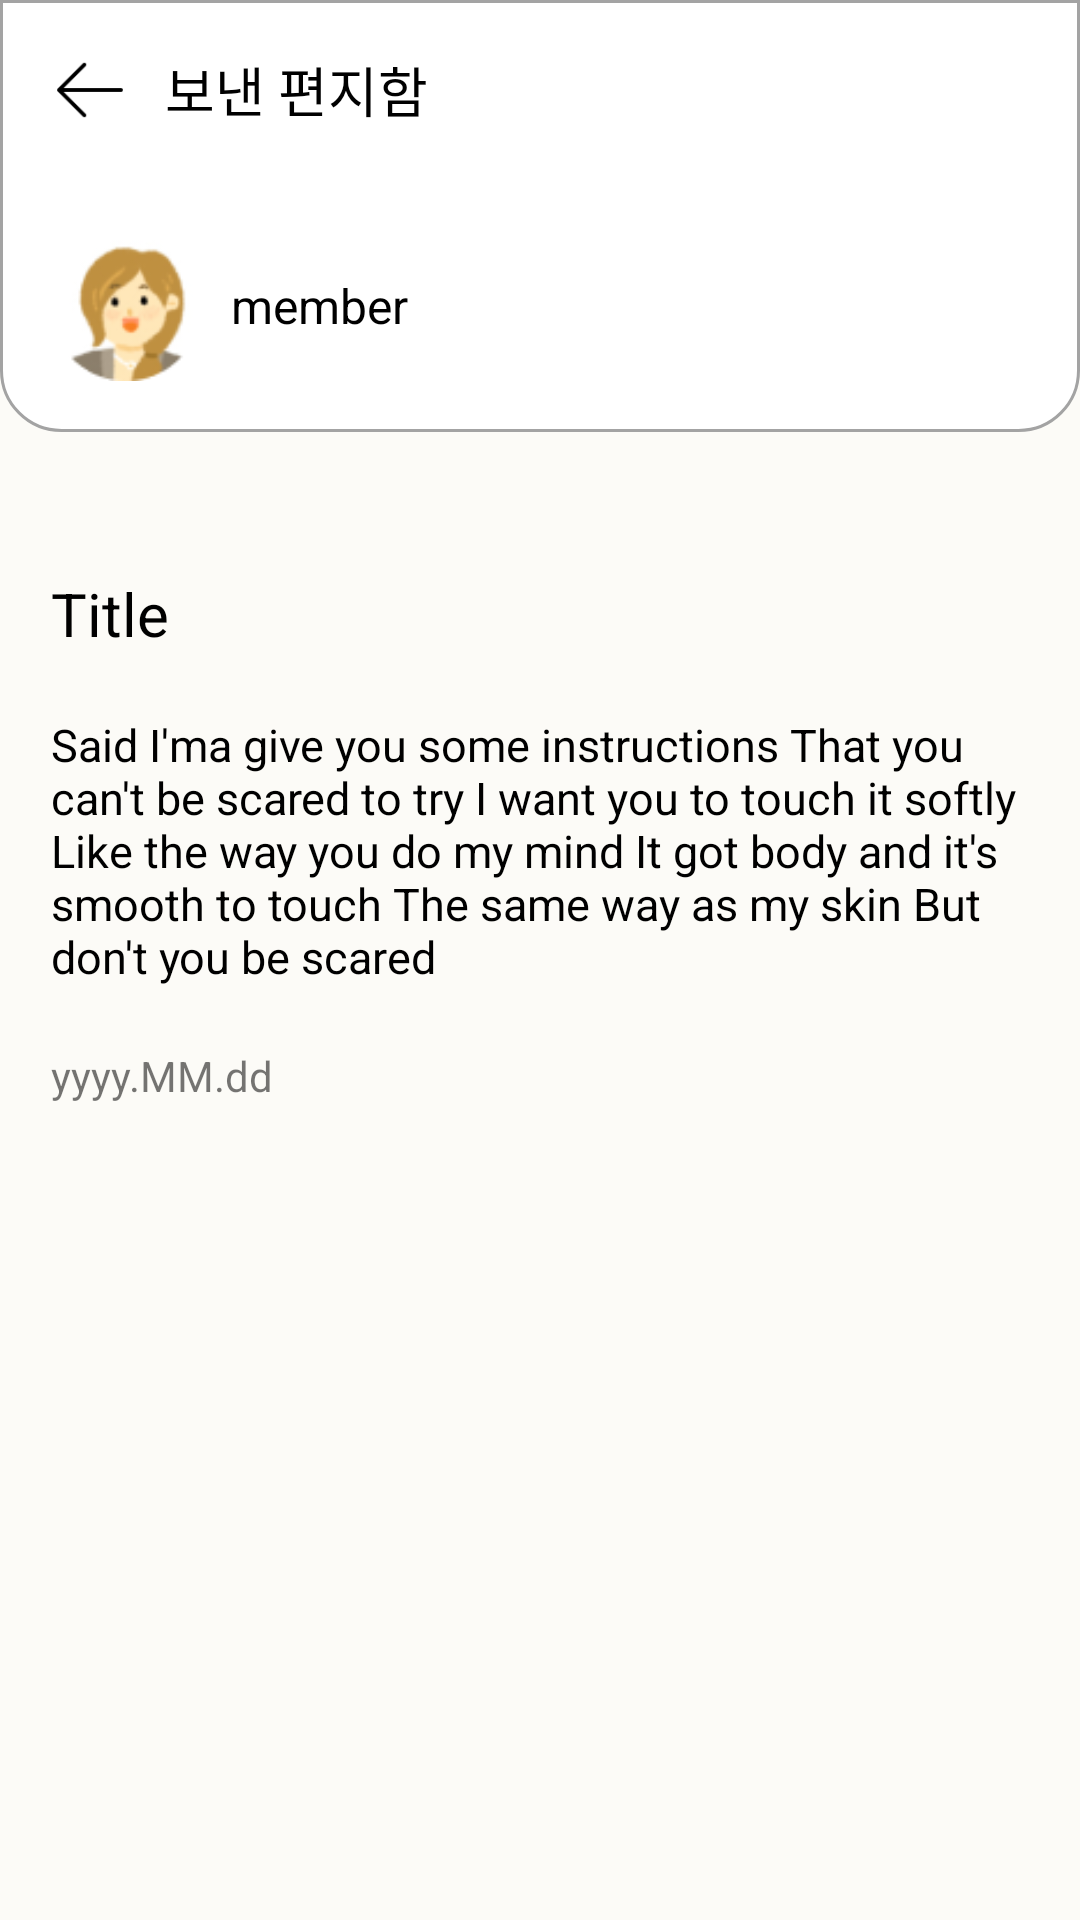

Icon bounding boxes for this 1080x1920 phone screenshot, format (x1, y1, x2, y2):
back: (57, 62, 123, 118)
